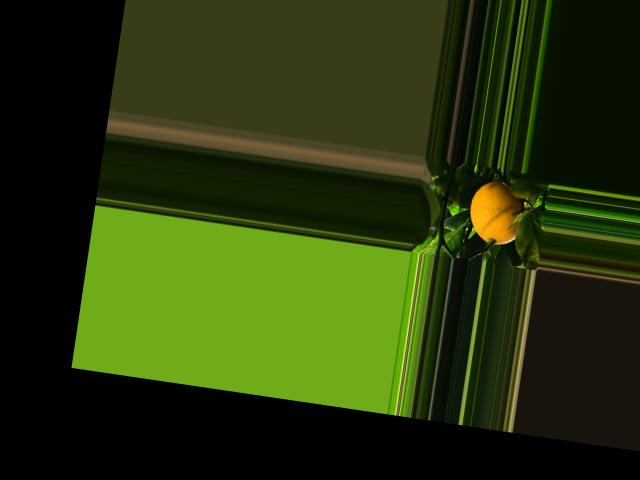lemon: (463, 176, 528, 251)
